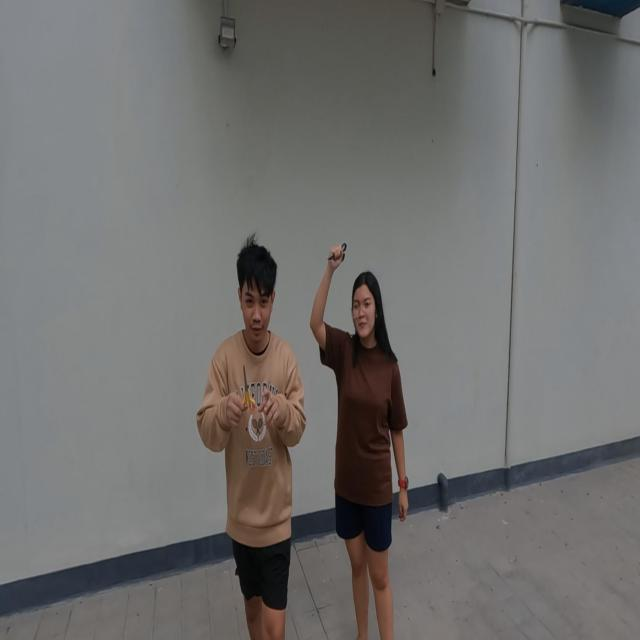scissor: (240, 364, 256, 412), (327, 241, 347, 263)
